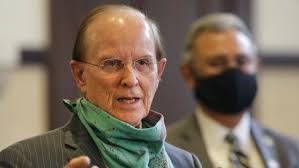mask_weared_incorrect: (91, 46, 162, 134)
with_mask: (196, 50, 261, 111)
